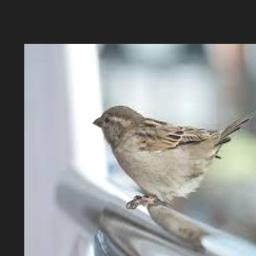Sparrow: (93, 106, 255, 209)
